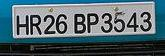2: (42, 13, 56, 34)
3: (99, 11, 113, 32), (139, 10, 152, 31)
4: (126, 11, 139, 31)
5: (112, 11, 125, 31)
6: (55, 13, 67, 33)
B: (72, 12, 86, 34)
H: (15, 13, 29, 35)
P: (85, 11, 99, 32)
R: (28, 12, 42, 34)
